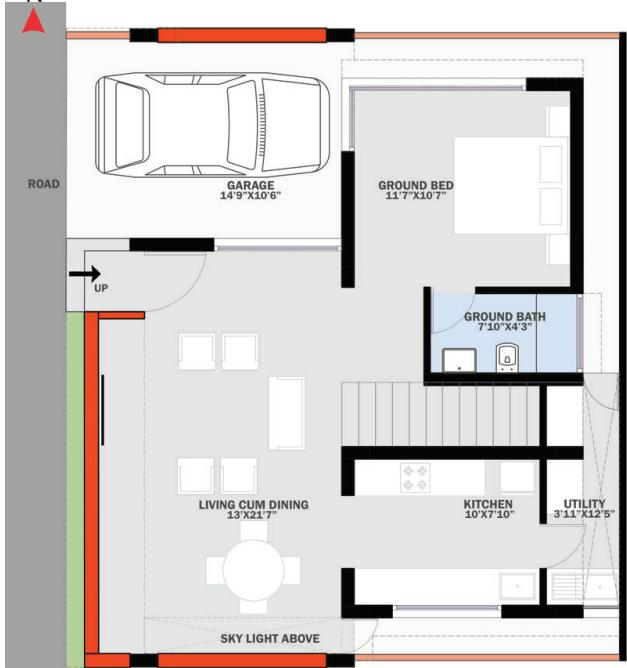Bed: (452, 129, 571, 237)
Bedroom: (349, 85, 574, 290)
Dining Room: (145, 456, 342, 654)
Dining table: (210, 512, 302, 624)
Kitchen: (356, 456, 540, 603)
Living Room: (100, 321, 540, 508)
Sofa: (180, 335, 262, 373), (173, 456, 255, 493), (269, 380, 302, 446)
commode: (495, 342, 521, 373)
door: (85, 252, 204, 311), (432, 292, 474, 332)
garage: (67, 39, 348, 242)
kitchen-slab: (357, 458, 540, 498), (357, 566, 541, 605)
sink: (553, 574, 617, 603), (499, 570, 538, 603), (445, 353, 475, 376)
stove: (402, 462, 434, 498)
toilet: (430, 287, 580, 374)
utility: (545, 457, 616, 608)
